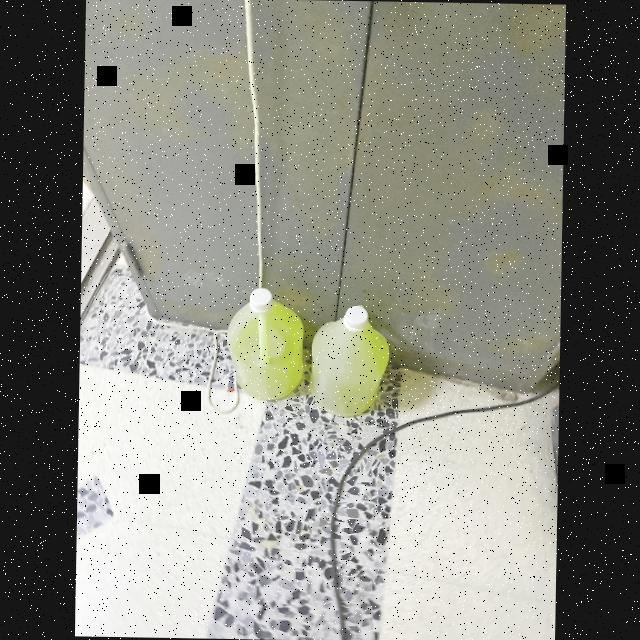chemical_plastic_gallon: (304, 300, 396, 420), (224, 288, 302, 404)
